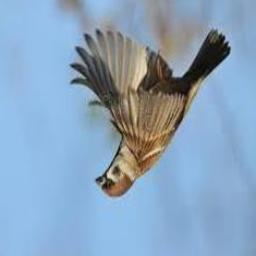Sparrow: (70, 27, 230, 198)
